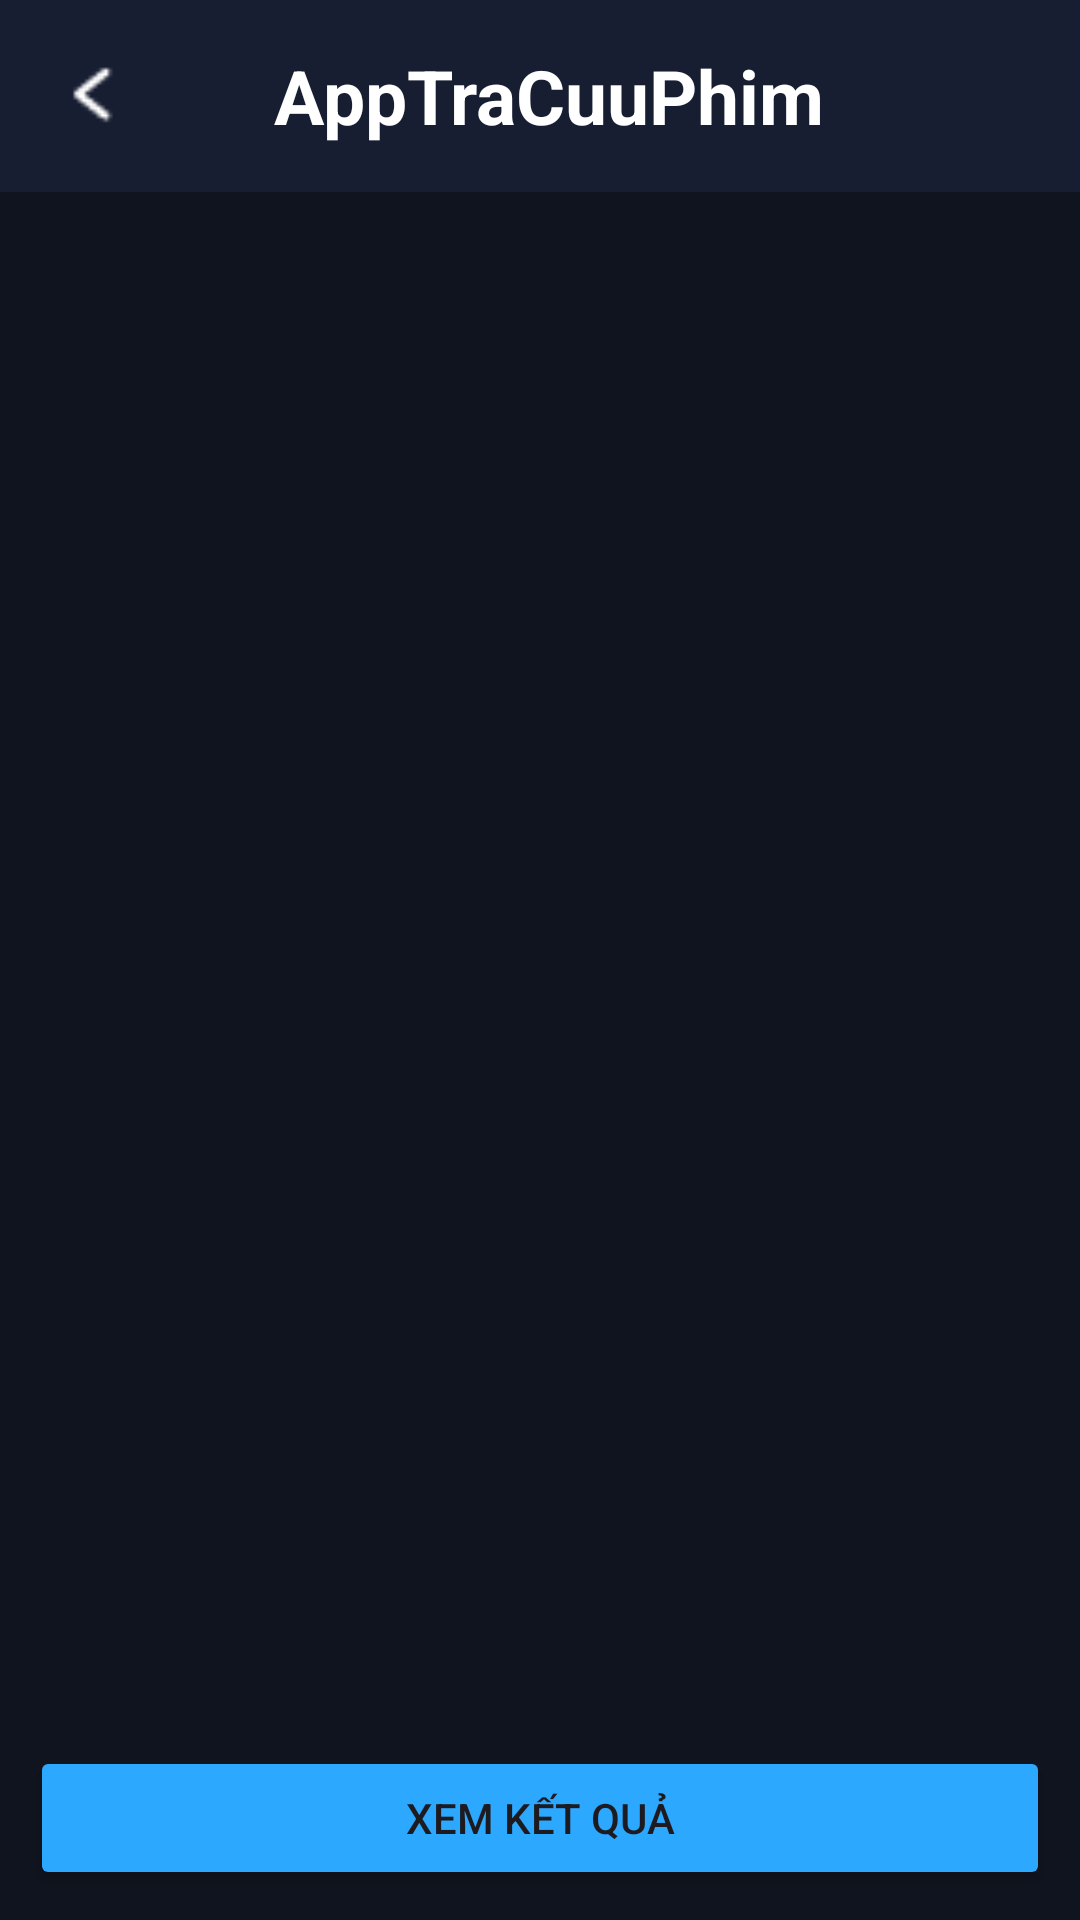

Icon click points for this 1080×1920 phone screenshot, format point (x, y):
arrow left: point (92, 94)
